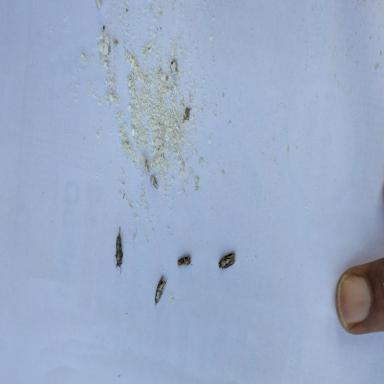pbw: (113, 226, 124, 273), (155, 275, 166, 305), (218, 252, 235, 270), (176, 255, 192, 267)
